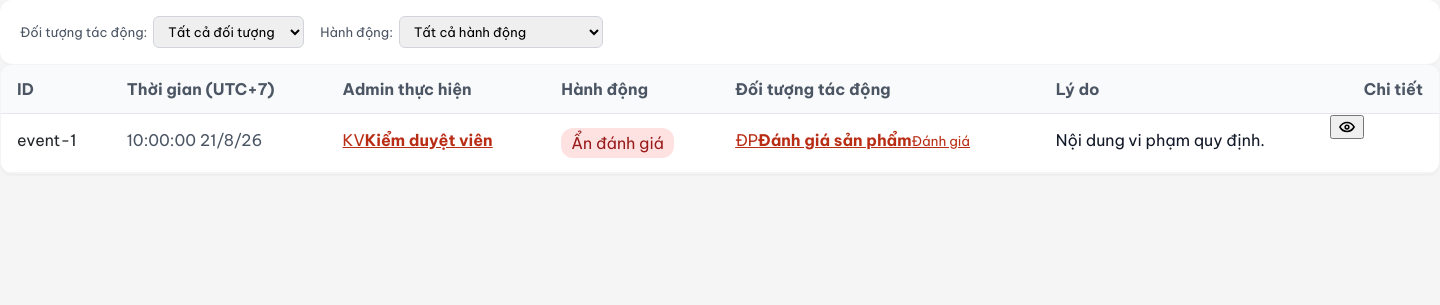
Test: AdminAuditPage › renders a friendly target and a structured before-and-after detail panel
The image size is (1440, 305).
Check: the text "Đánh giá sản phẩm" is shown, box 758,130 -> 912,150
Check: the text titled "HIDE" reads "Ẩn đánh giá", box 571,133 -> 664,153
Click the button named "Xem thay đổi của Đánh giá sản phẩm": (1347, 127) 1330,115 -> 1364,139
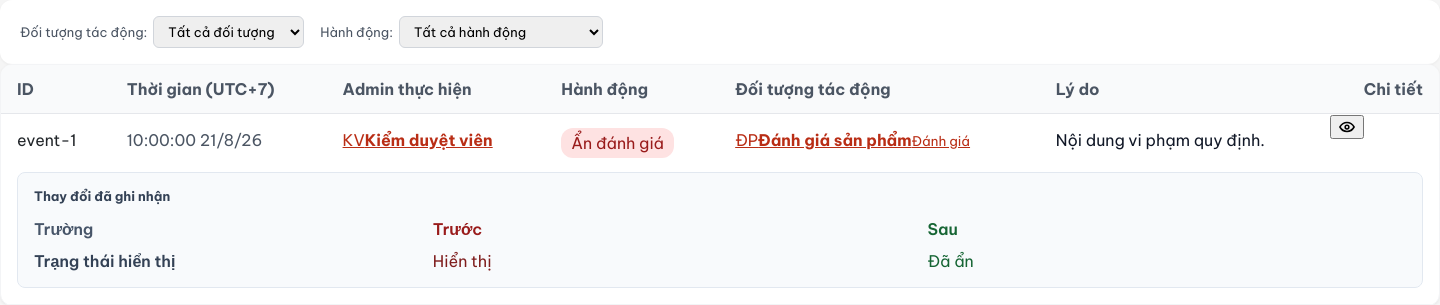
Check: the element named "Chi tiết thay đổi của Đánh giá" is shown, box 17,172 -> 1423,288
Check: the text "Trạng thái hiển thị" is shown, box 34,250 -> 175,270
Check: the text "Hiển thị" is shown, box 433,250 -> 492,270
